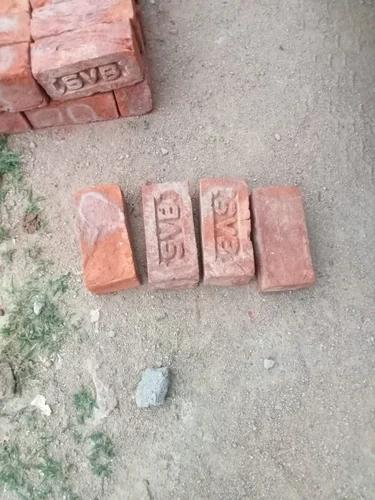brick: (72, 184, 134, 293), (252, 183, 313, 289), (143, 182, 197, 286), (203, 179, 250, 281)
